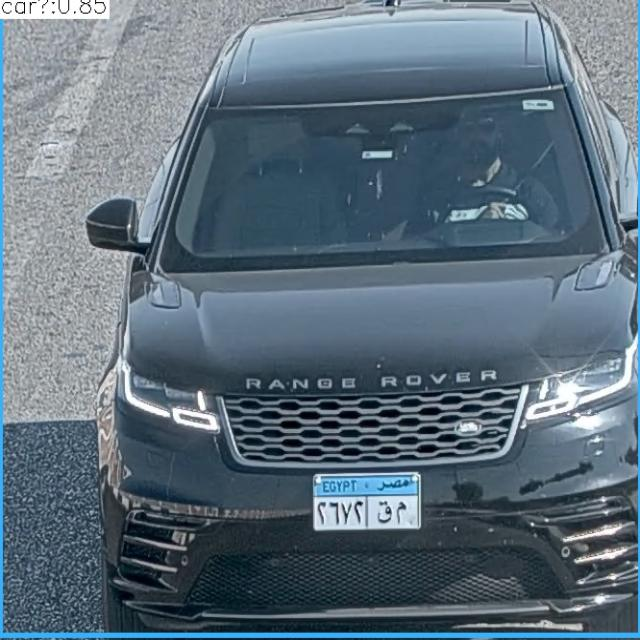windshield: (164, 86, 602, 261)
